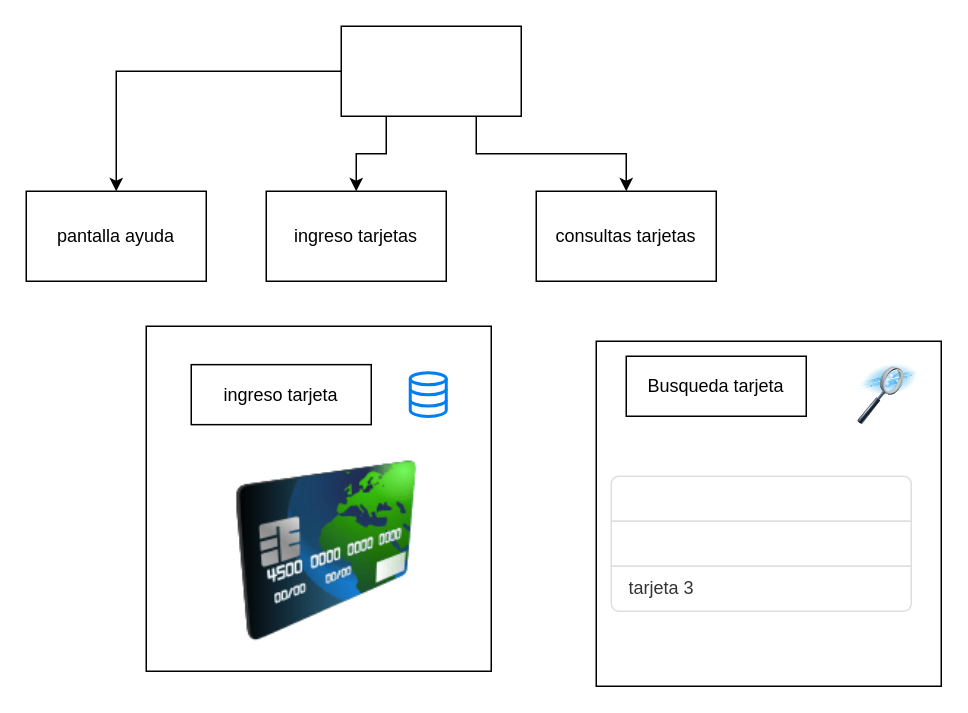
Some shapes in this 968 by 713 pixel diagram are drawn without their labels. The shapes that lost their labels are listed below. From the top down, each one's box as (x1, y1, x2, y2) in pixels, then its label:
(340, 25, 521, 116): APP
(610, 475, 911, 521): tarjeta 1
(610, 520, 911, 566): tarjeta 2
